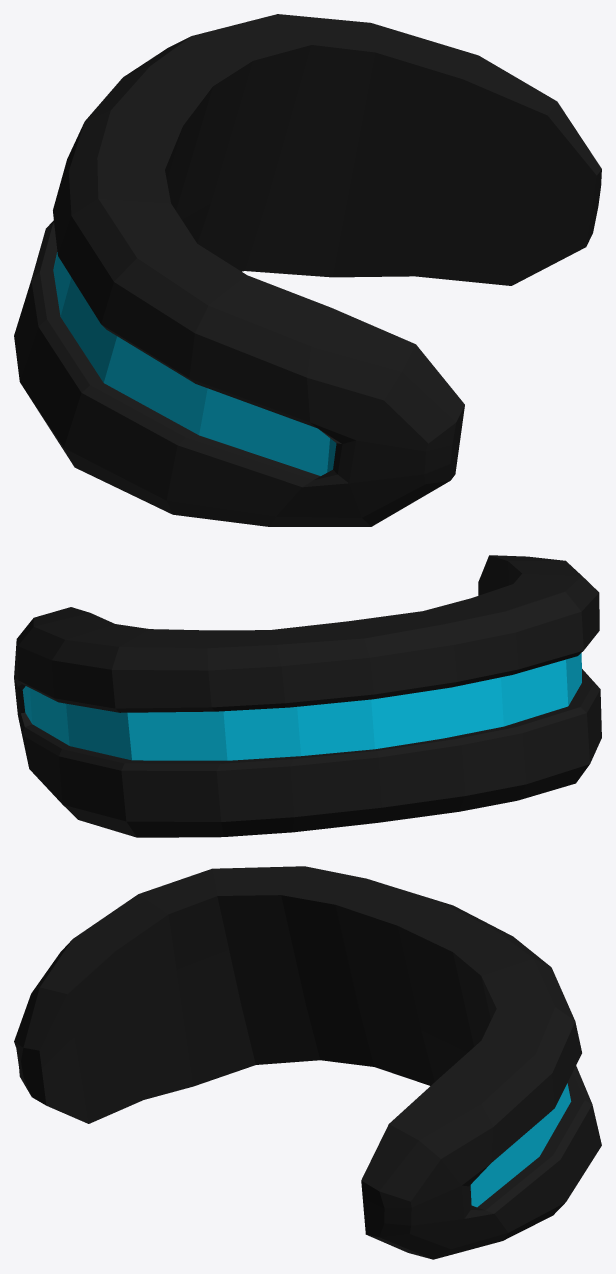
The model's file is photon_mask.glb.
3 views of the same model, one above another, from view 1: azimuth 30°, elevation 25°; view 2: azimuth 150°, elevation 25°; view 3: azimuth 270°, elevation 25° (orthographic). The views are drawn at different scales.
Visible parts, largest first — view 1: Cube; view 2: Cube; view 3: Cube.
Boxes of the visible parts, x1,y1,x2,y2 form: Cube: (14,14,601,526); Cube: (14,555,601,837); Cube: (14,866,601,1259).
Size of the model in its own units: 0.1963 by 0.0777 by 0.1987.
